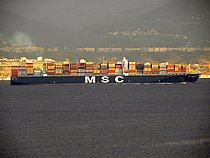Ship: (9, 56, 204, 89)
